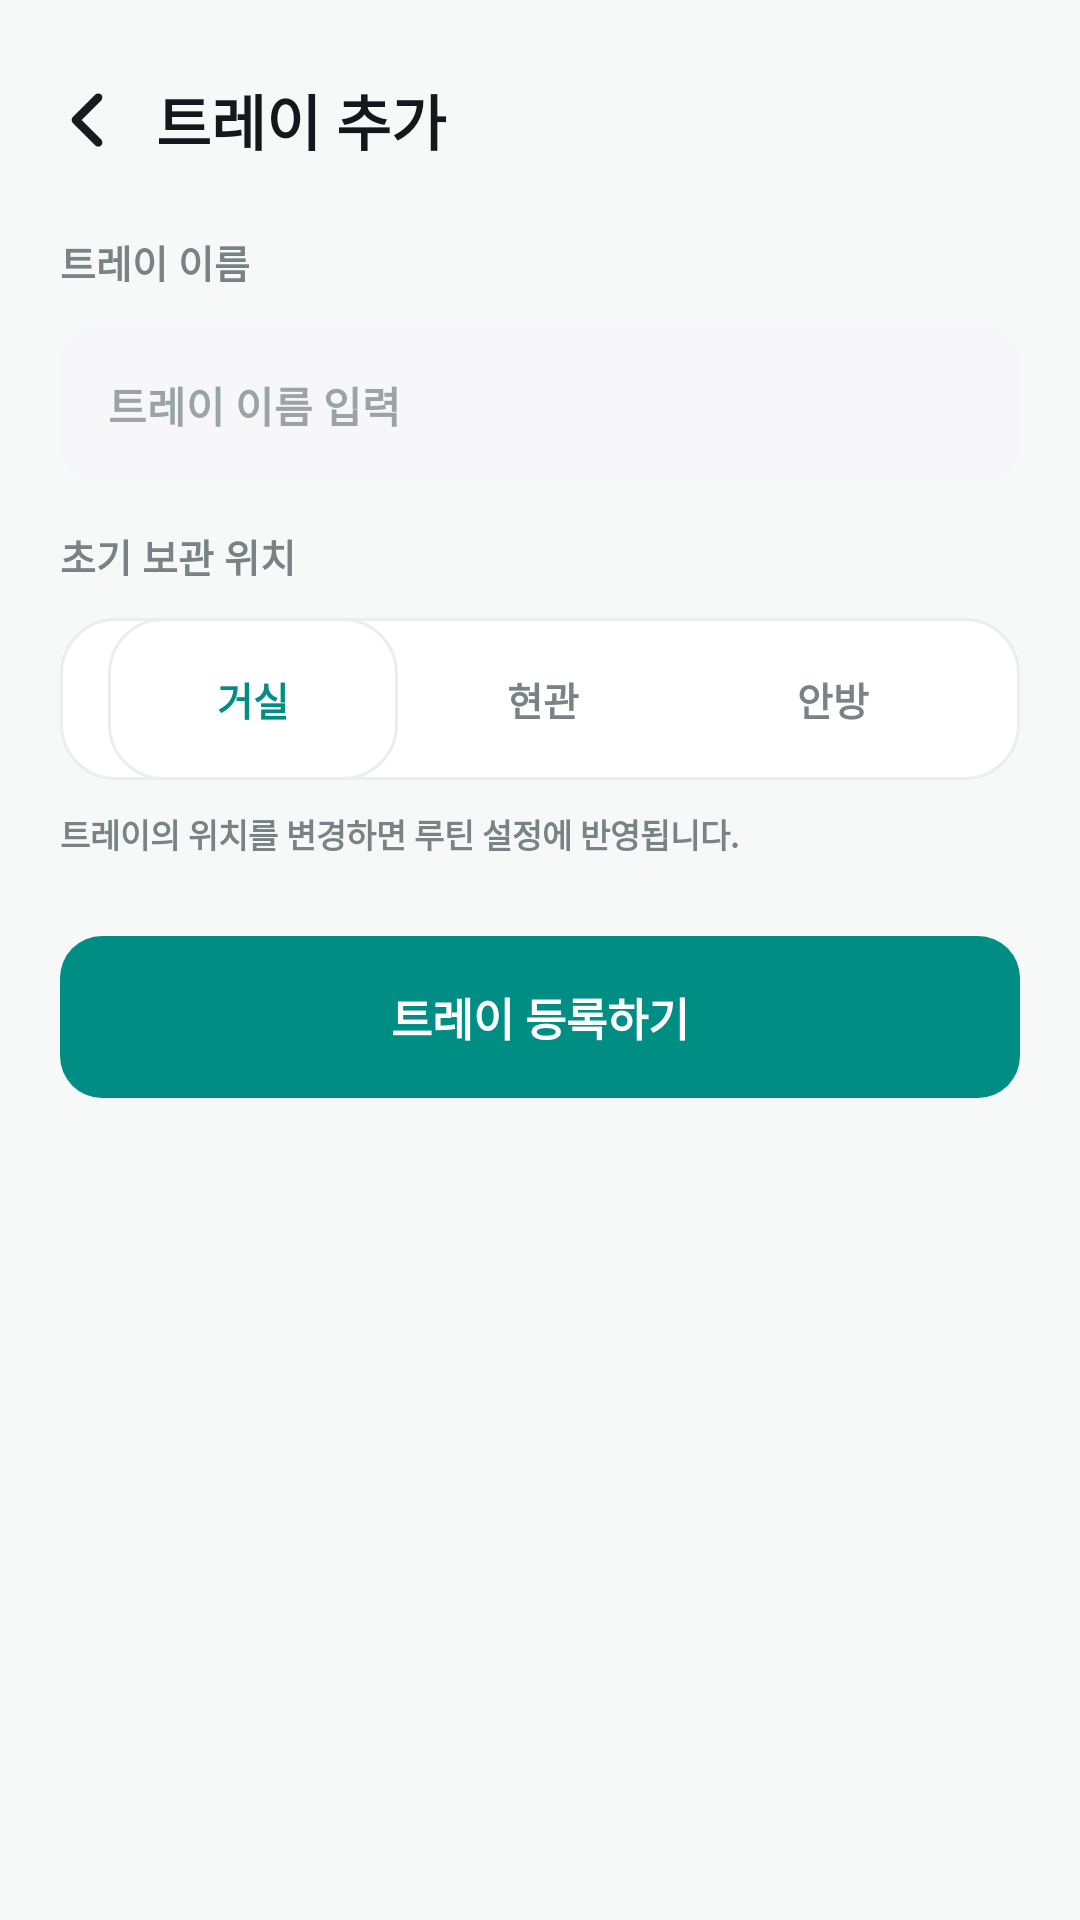

Icons on this 1080 x 1920 Android screen, each with its box as (x1, y1, x2, y2):
chevron left: (71, 93, 103, 147)
